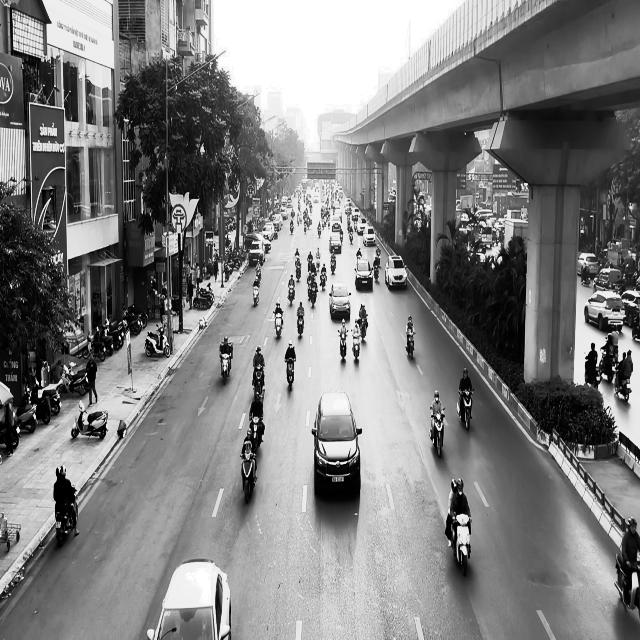car: (146, 559, 232, 639), (311, 390, 362, 495), (329, 281, 351, 320), (385, 255, 407, 289), (354, 259, 374, 290)
motorbike: (614, 548, 640, 618), (71, 399, 108, 440), (449, 512, 471, 576), (54, 488, 78, 546), (240, 449, 257, 504), (144, 323, 170, 357), (429, 405, 445, 457), (456, 388, 474, 431), (248, 415, 264, 453), (614, 367, 631, 402), (252, 363, 265, 401), (284, 357, 296, 391), (337, 328, 348, 361), (220, 348, 230, 384), (405, 328, 415, 359), (273, 311, 283, 338), (351, 330, 360, 360), (358, 316, 368, 342), (287, 283, 295, 305), (252, 282, 259, 306), (297, 313, 304, 337)
